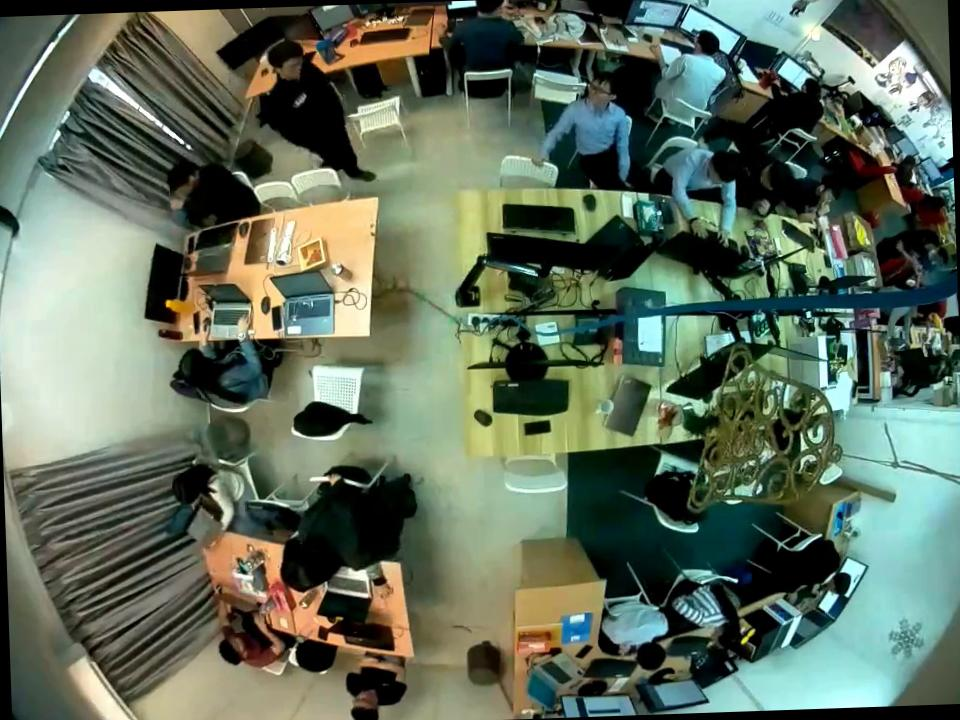employee_tag: (291, 92, 308, 108)
